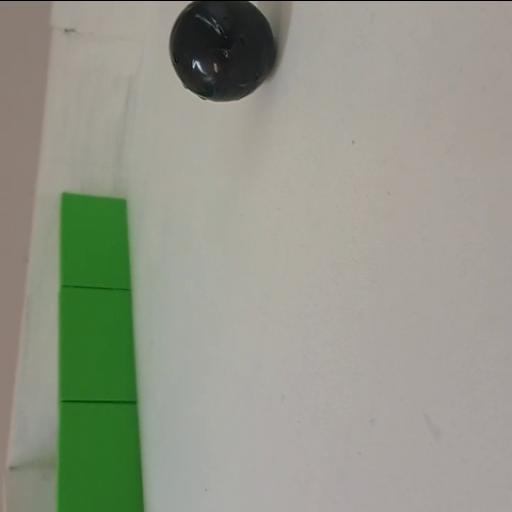dead: (169, 1, 277, 102)
